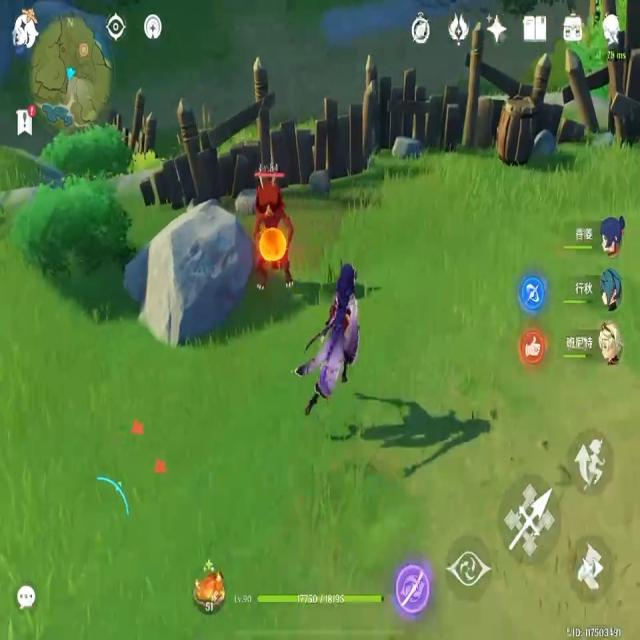genshin-hilichurls: (248, 159, 303, 298)
